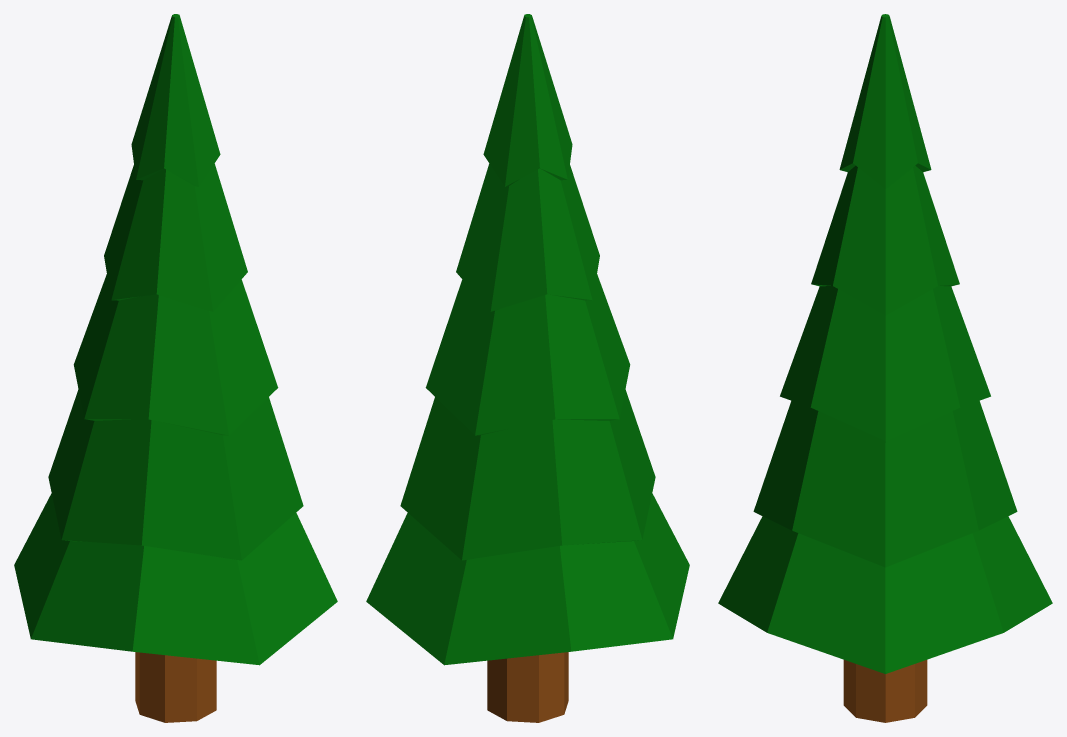
The model's file is Arbol.fbx.
3 renders of one model, left to right at view 1: azimuth 30°, elevation 25°; view 2: azimuth 150°, elevation 25°; view 3: azimuth 270°, elevation 25°, orthographic.
Visible parts, largest first — view 1: Pino.021, PinoTronco.021; view 2: Pino.021, PinoTronco.021; view 3: Pino.021, PinoTronco.021.
Boxes of the visible parts, x1,y1,x2,y2 form: Pino.021: [14, 14, 337, 665]; PinoTronco.021: [135, 652, 216, 722]; Pino.021: [366, 14, 689, 665]; PinoTronco.021: [487, 652, 568, 722]; Pino.021: [718, 14, 1052, 673]; PinoTronco.021: [843, 660, 927, 722].
Size of the model in its own units: 43.16 by 98.05 by 43.16.
